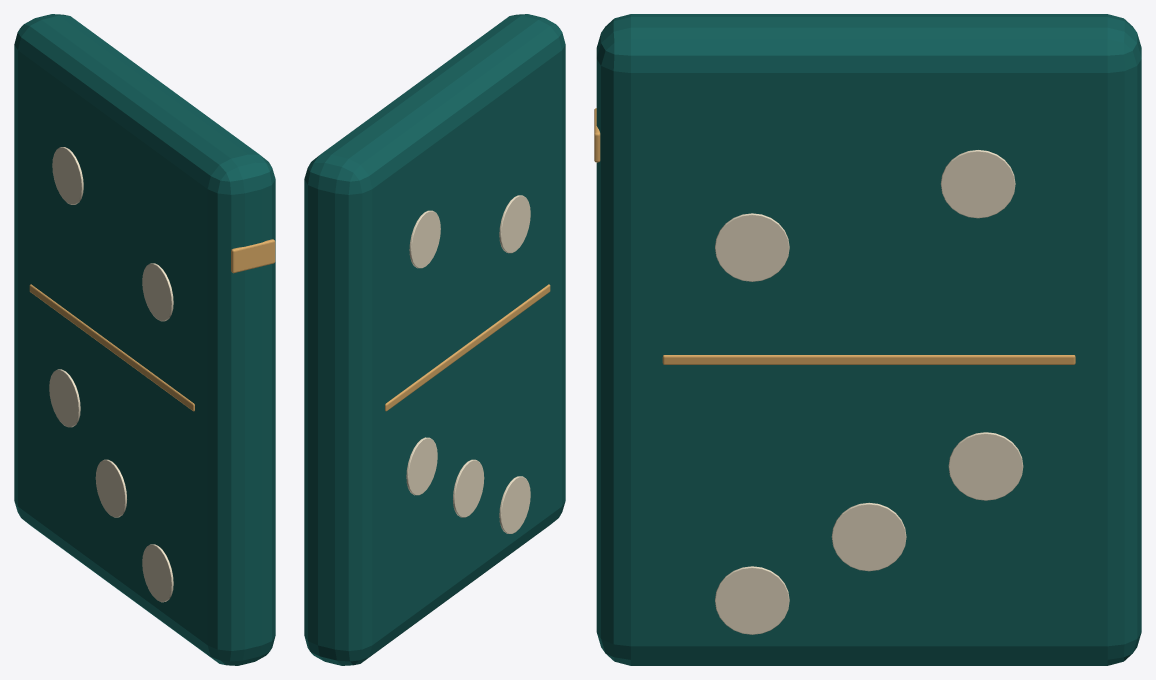
File: domino-jade.glb
3 renders of one model, left to right at view 1: azimuth 30°, elevation 25°; view 2: azimuth 150°, elevation 25°; view 3: azimuth 270°, elevation 25°, orthographic. The views are drawn at different scales.
Parts seen in each view (by area): view 1: domino-jade; view 2: domino-jade; view 3: domino-jade.
Part boxes in pixels (box(x1,y1,x2,y2)): domino-jade: box(14, 14, 275, 665); domino-jade: box(304, 14, 565, 665); domino-jade: box(594, 14, 1141, 665).
Size of the model in its own units: 0.129 by 0.9 by 0.703.
